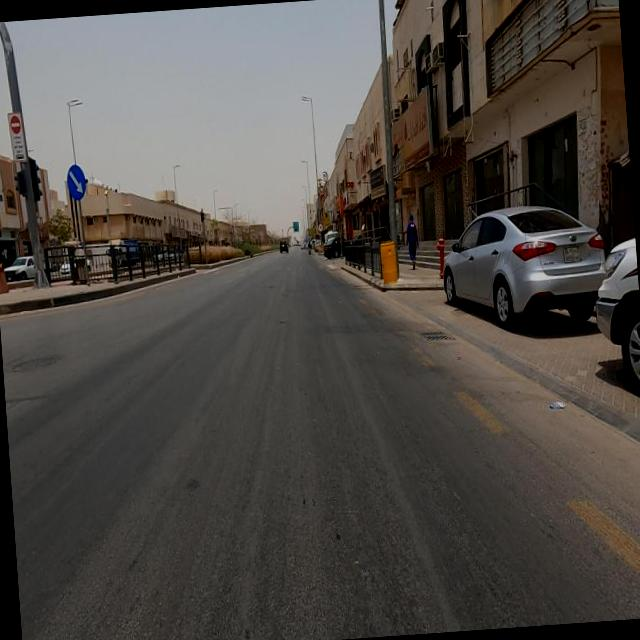debris: (414, 0, 626, 126), (354, 69, 466, 220), (522, 359, 589, 443)
